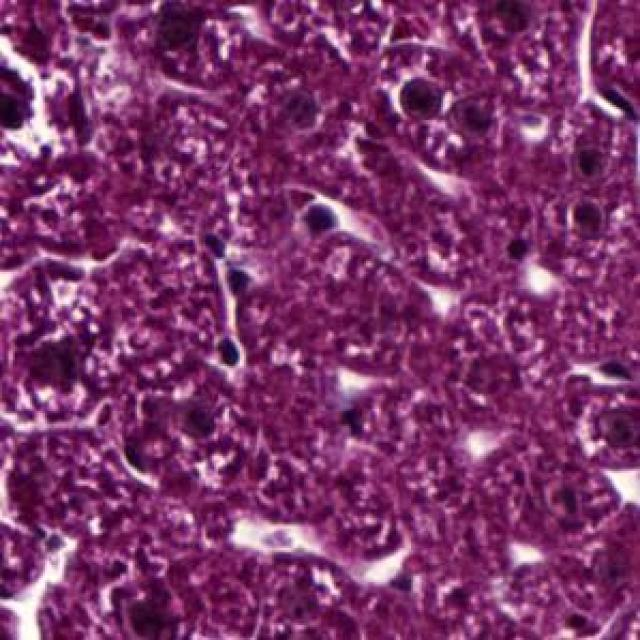inflammation: (381, 64, 469, 137), (113, 571, 205, 640), (291, 190, 349, 248)
